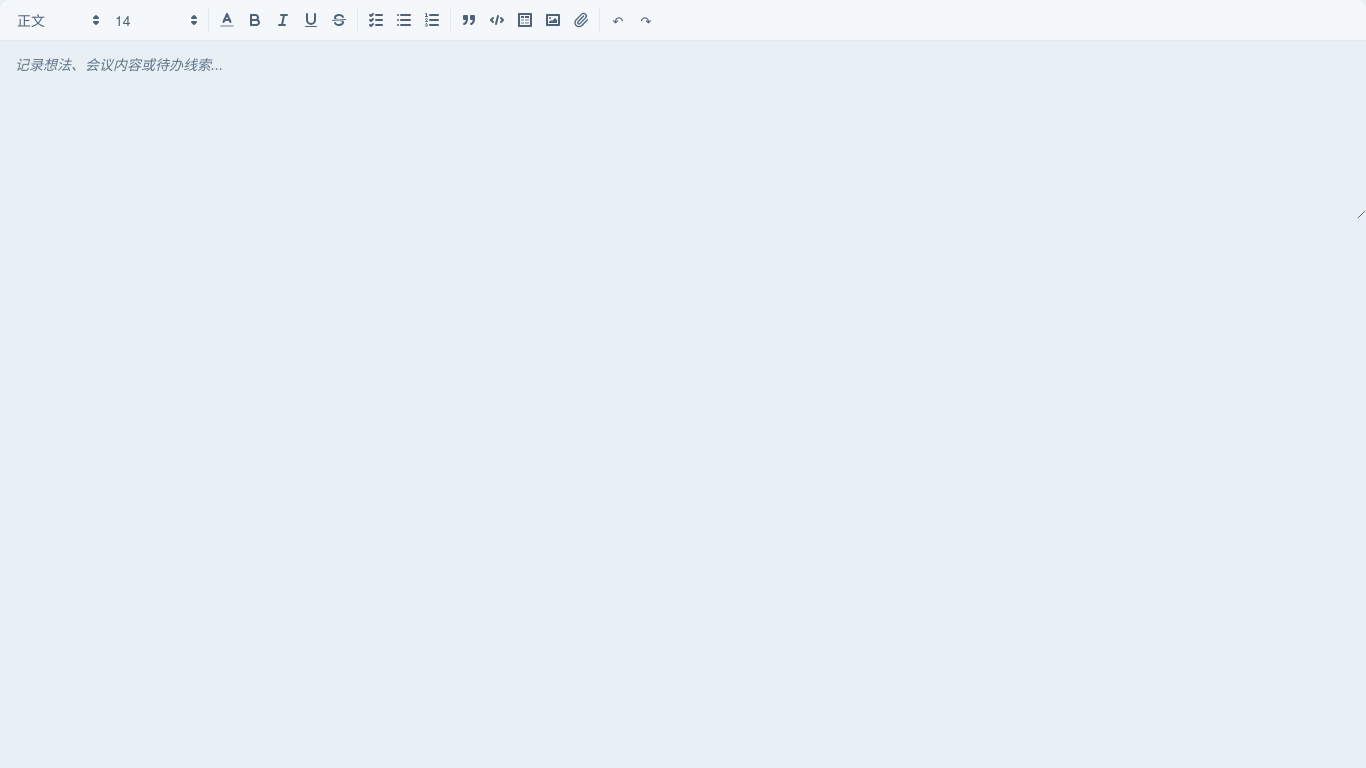
Test case: MagicNoteEditor › opens a validated table dialog, supports cancellation, and restores focus
Step 1. Click the button named "插入表格" → (525, 20), box [511,8,539,32]
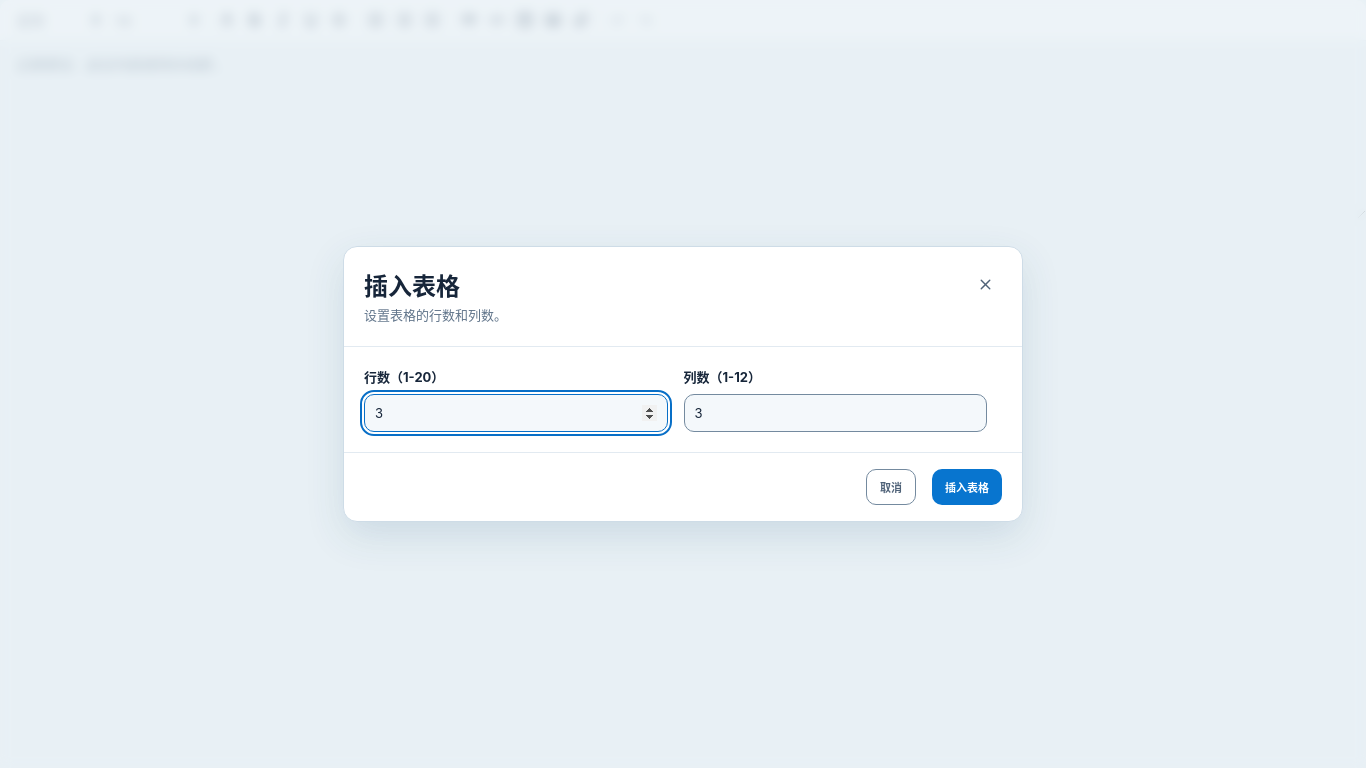
Step 2. Replace the text in the number field labelled "行数（1-20）" with "21" → (516, 413), box [364,394,668,432]
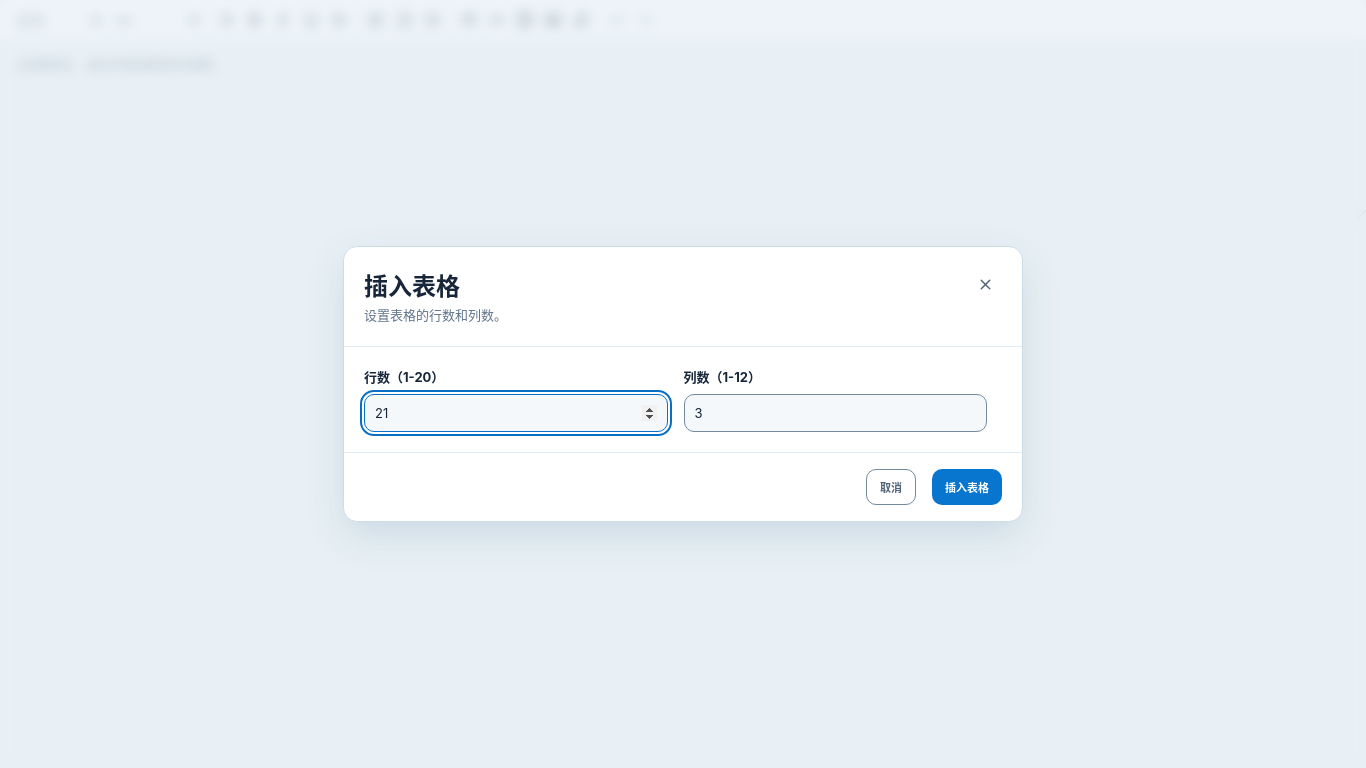
Step 3. Click the button "插入表格" → (967, 487), box [932,469,1002,505]
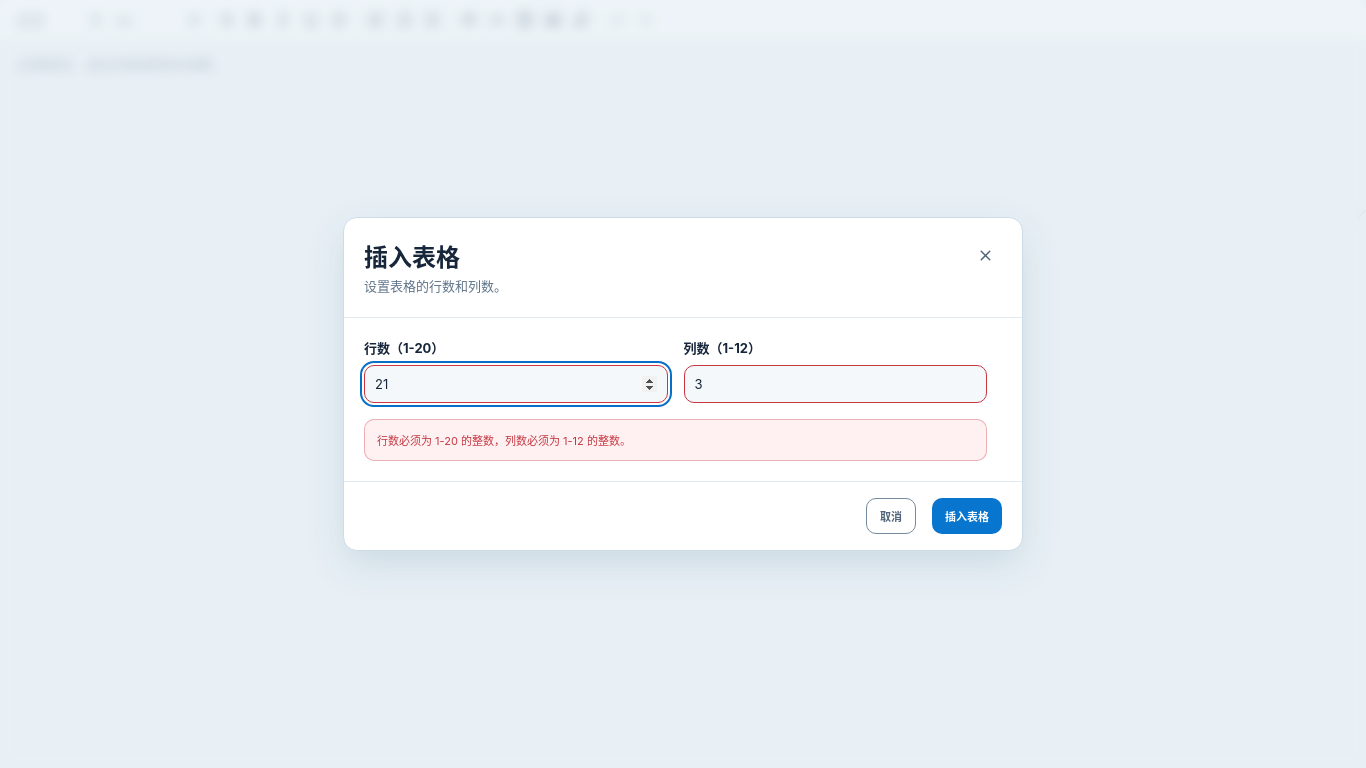
expect the message shows "行数必须为 1-20": met, box [377,434,631,448]
Step 4. Click the button "取消" → (891, 516), box [866,498,916,534]
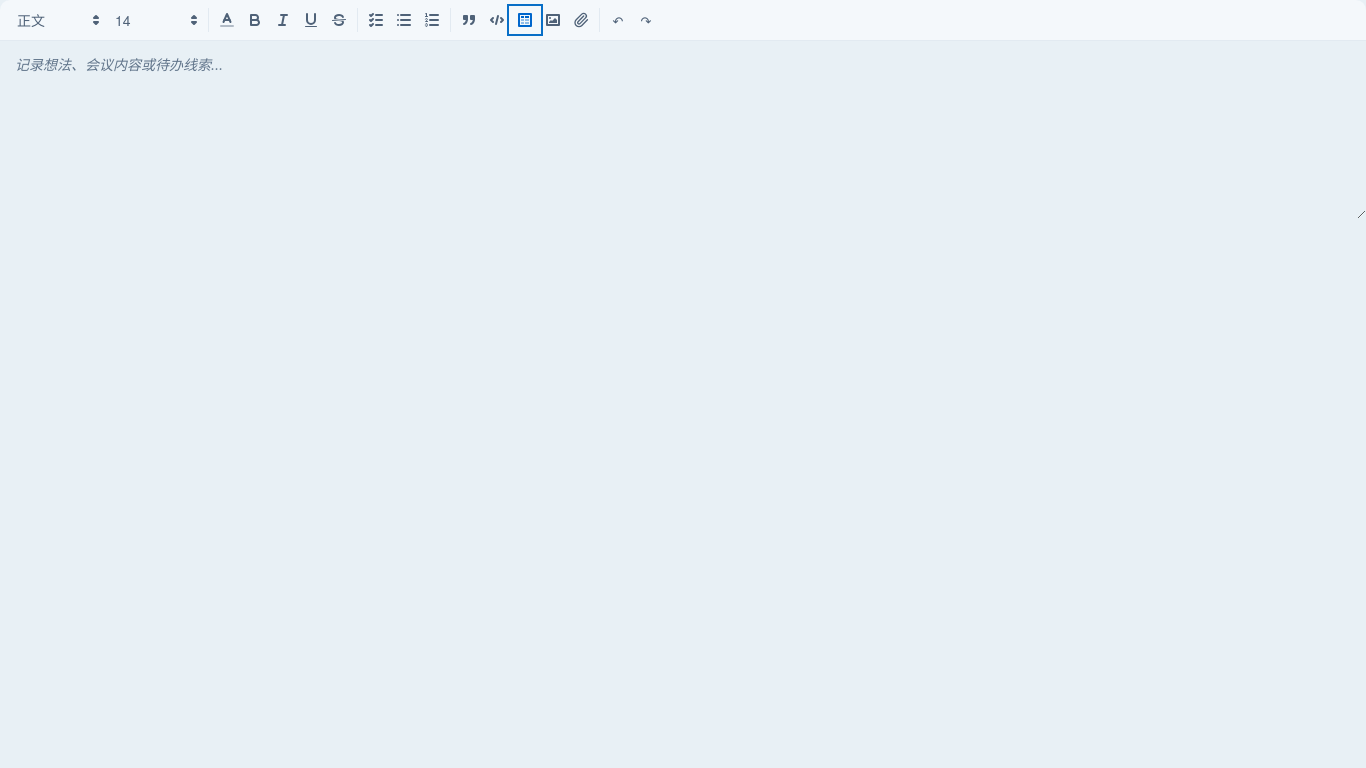
expect the heading "插入表格" is gone: met
